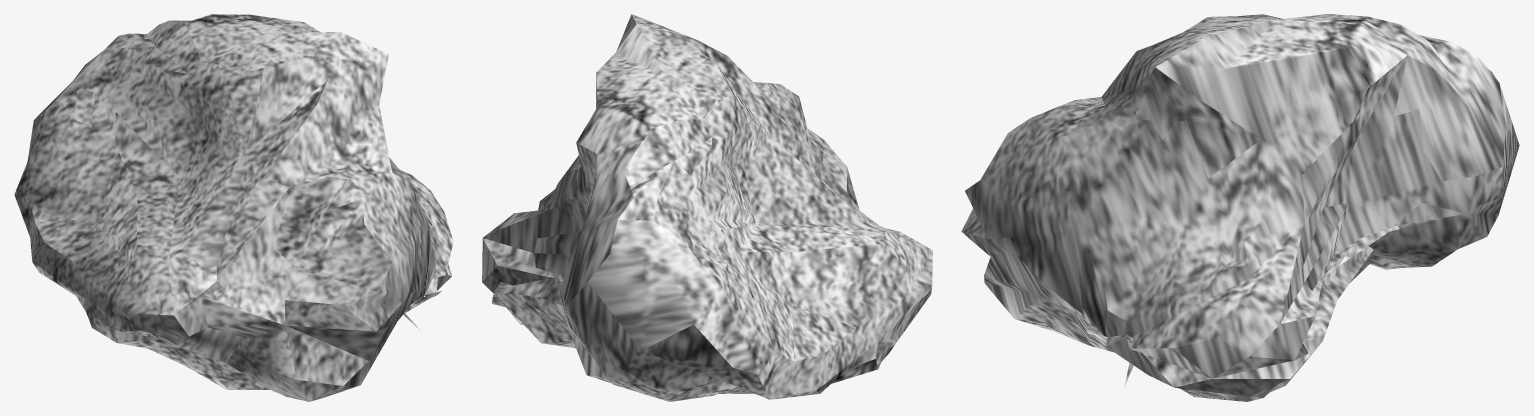
File: Rock_Asset_08.fbx
3 views of the same model, side by side, from view 1: azimuth 30°, elevation 25°; view 2: azimuth 150°, elevation 25°; view 3: azimuth 270°, elevation 25° (orthographic). The views are drawn at different scales.
Visible parts, largest first — view 1: Rock_Asset; view 2: Rock_Asset; view 3: Rock_Asset.
Part boxes in pixels (bbox=[...]): Rock_Asset: bbox=[14, 14, 453, 401]; Rock_Asset: bbox=[482, 14, 932, 401]; Rock_Asset: bbox=[961, 14, 1519, 401].
Size of the model in its own units: 1.66 by 1.43 by 1.97.
Materials: 1 (1 with a texture image).
